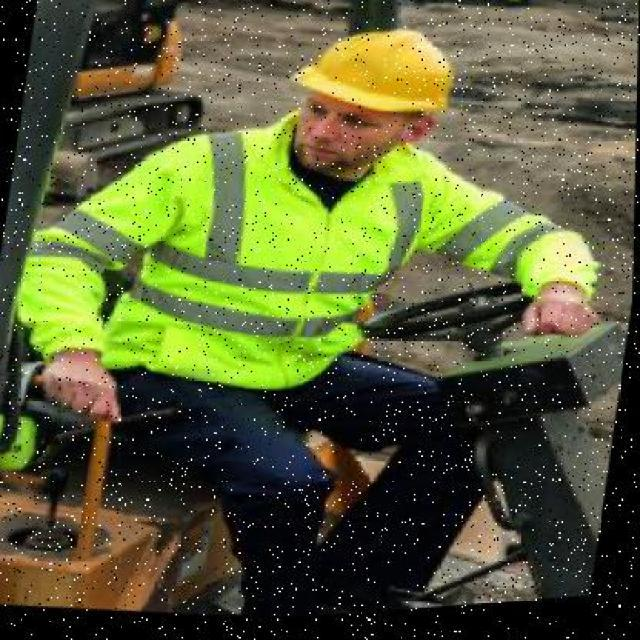helmet: (260, 15, 476, 141)
vest: (63, 109, 459, 438)
